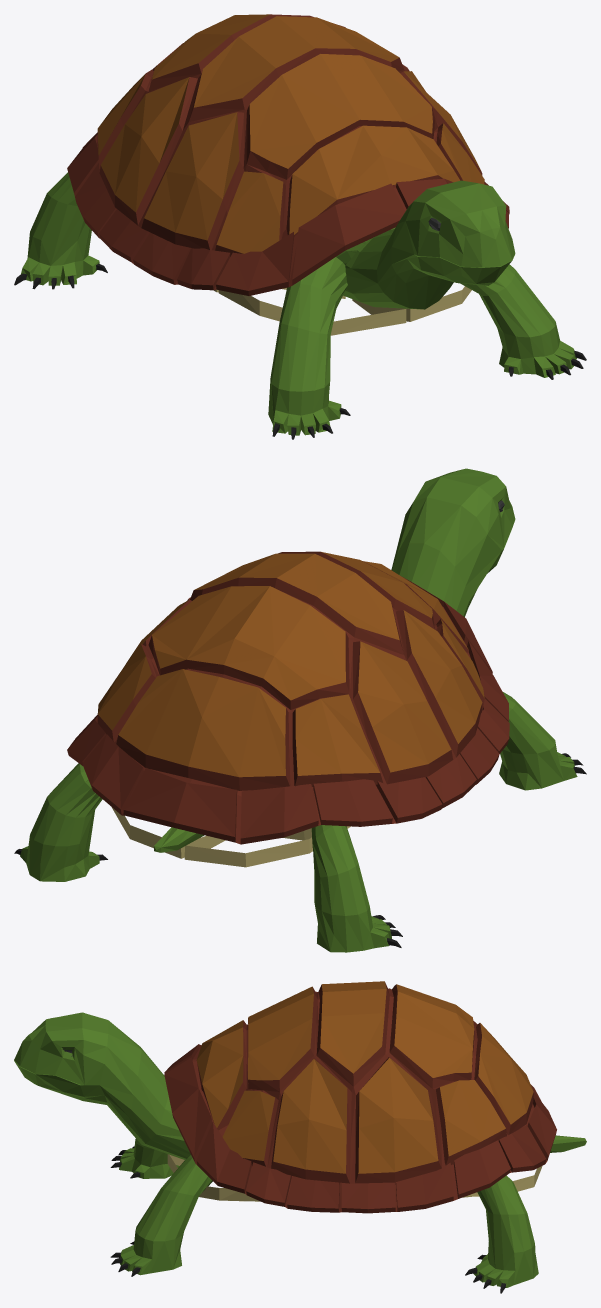
File: turtle.glb
3 renders of one model, top to bottom at view 1: azimuth 30°, elevation 25°; view 2: azimuth 150°, elevation 25°; view 3: azimuth 270°, elevation 25°, orthographic. The views are drawn at different scales.
Parts seen in each view (by area): view 1: Node; view 2: Node; view 3: Node.
Part boxes in pixels (x1,y1,x2,y2): Node: (14, 14, 586, 439); Node: (14, 468, 586, 952); Node: (14, 981, 586, 1293).
Bounding box in the file's own units: 14.02 × 9.43 × 21.62.
